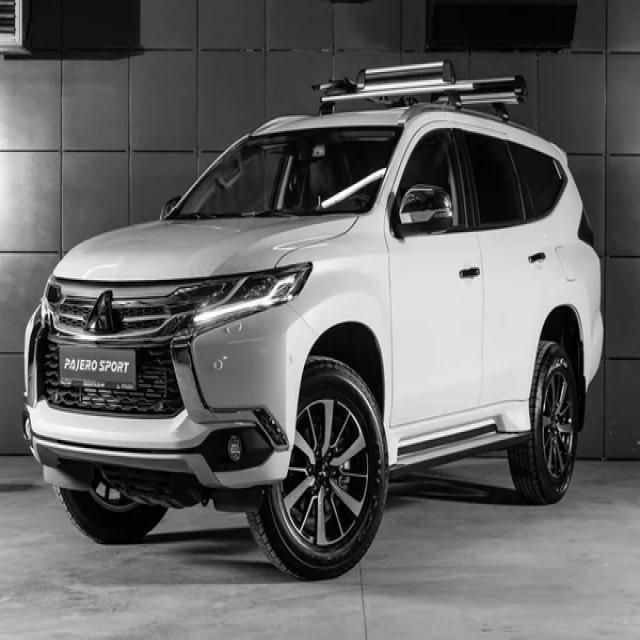Car: (23, 61, 605, 580)
